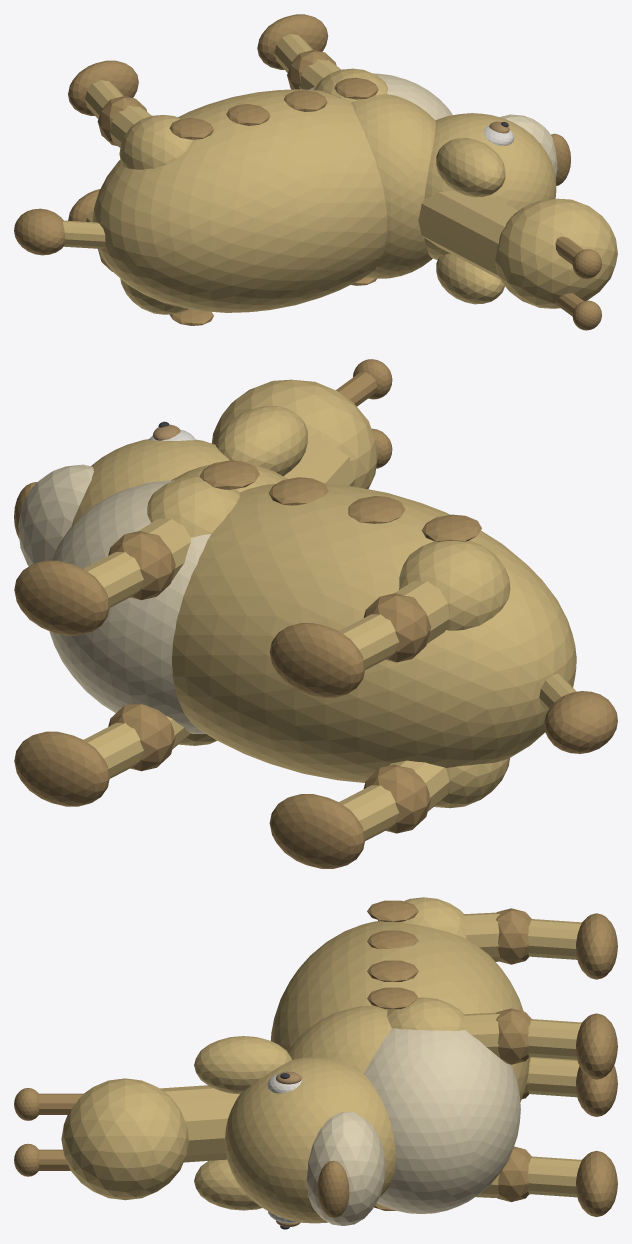
The model's file is giraffe.glb.
3 renders of one model, top to bottom at view 1: azimuth 30°, elevation 25°; view 2: azimuth 150°, elevation 25°; view 3: azimuth 270°, elevation 25°, orthographic. The views are drawn at different scales.
Parts seen in each view (by area): view 1: world; view 2: world; view 3: world.
Boxes of the visible parts, x1=… form: world: x1=14, y1=14, x2=617, y2=330; world: x1=14, y1=359, x2=617, y2=868; world: x1=14, y1=897, x2=617, y2=1229.
Size of the model in its own units: 2.62 by 0.99 by 2.55.
